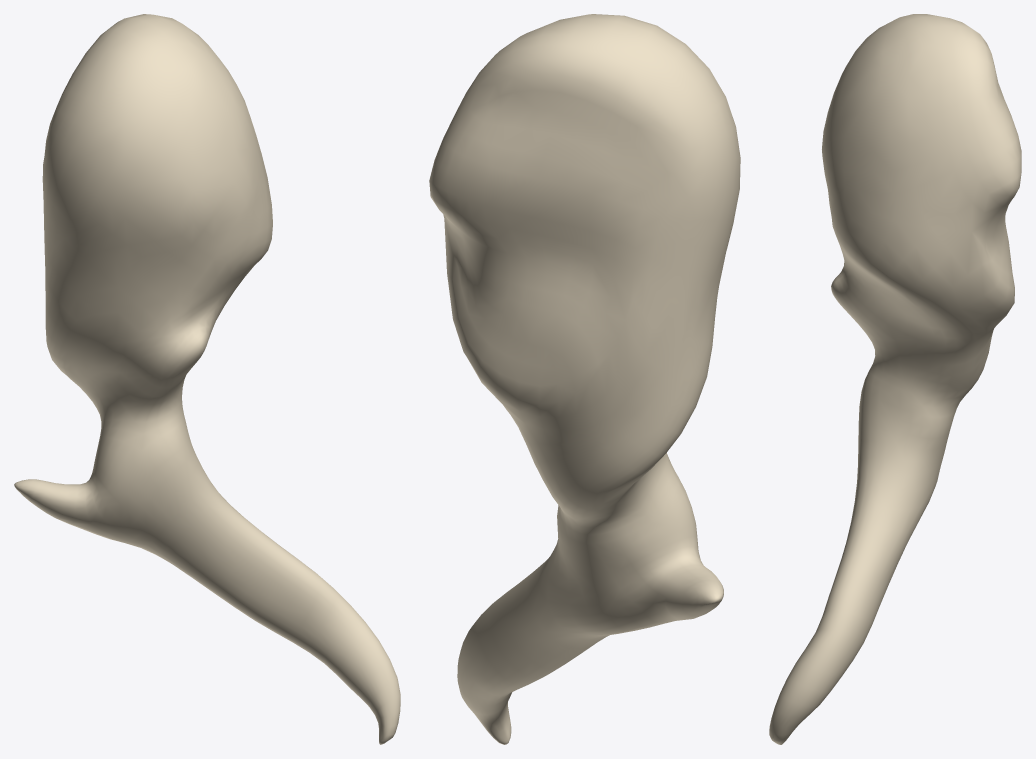
Rendered from malleus-r.glb.
3 views of the same model, side by side, from view 1: azimuth 30°, elevation 25°; view 2: azimuth 150°, elevation 25°; view 3: azimuth 270°, elevation 25° (orthographic). The views are drawn at different scales.
Visible parts, largest first — view 1: Malleus.r; view 2: Malleus.r; view 3: Malleus.r.
Boxes of the visible parts, bbox=[...] form: Malleus.r: bbox=[14, 14, 400, 744]; Malleus.r: bbox=[429, 14, 740, 744]; Malleus.r: bbox=[769, 14, 1021, 744].
Size of the model in its own units: 0.00364 by 0.00818 by 0.00288.
